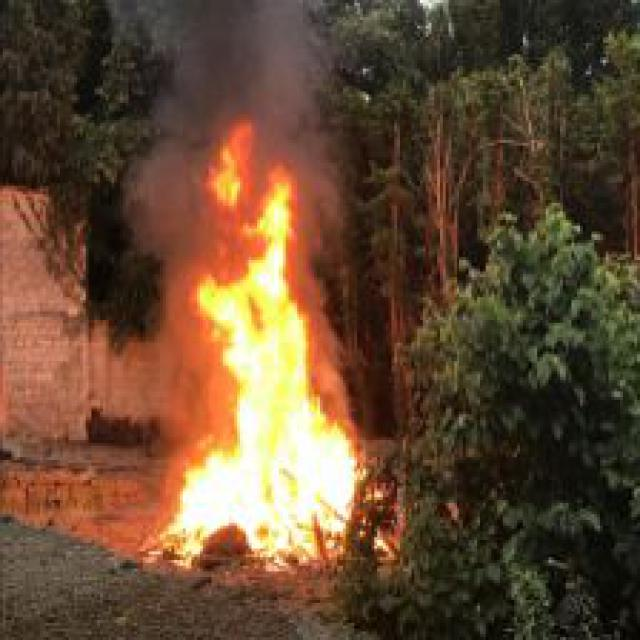fire: (149, 114, 377, 572)
